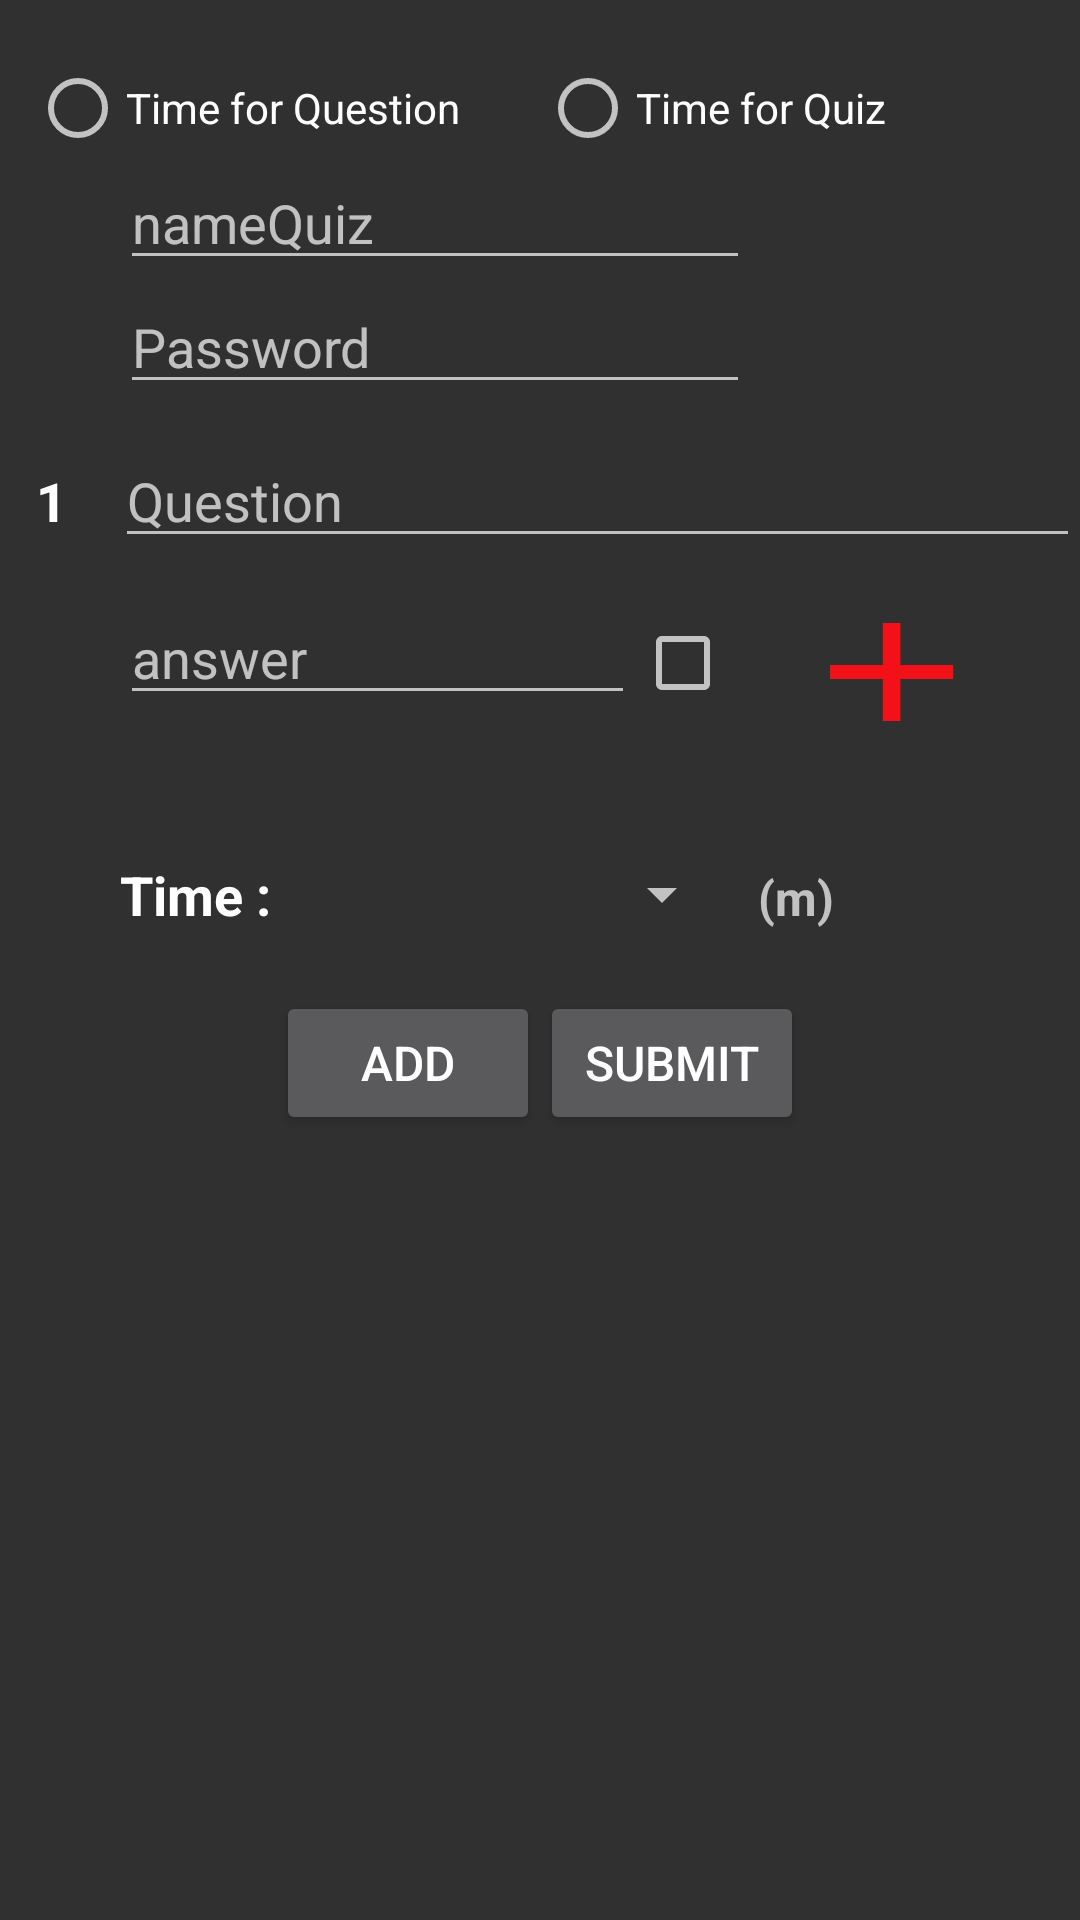

Screen size 1080×1920. Icon name, then its center in pixels as [x,y]:
add: [892,672]
